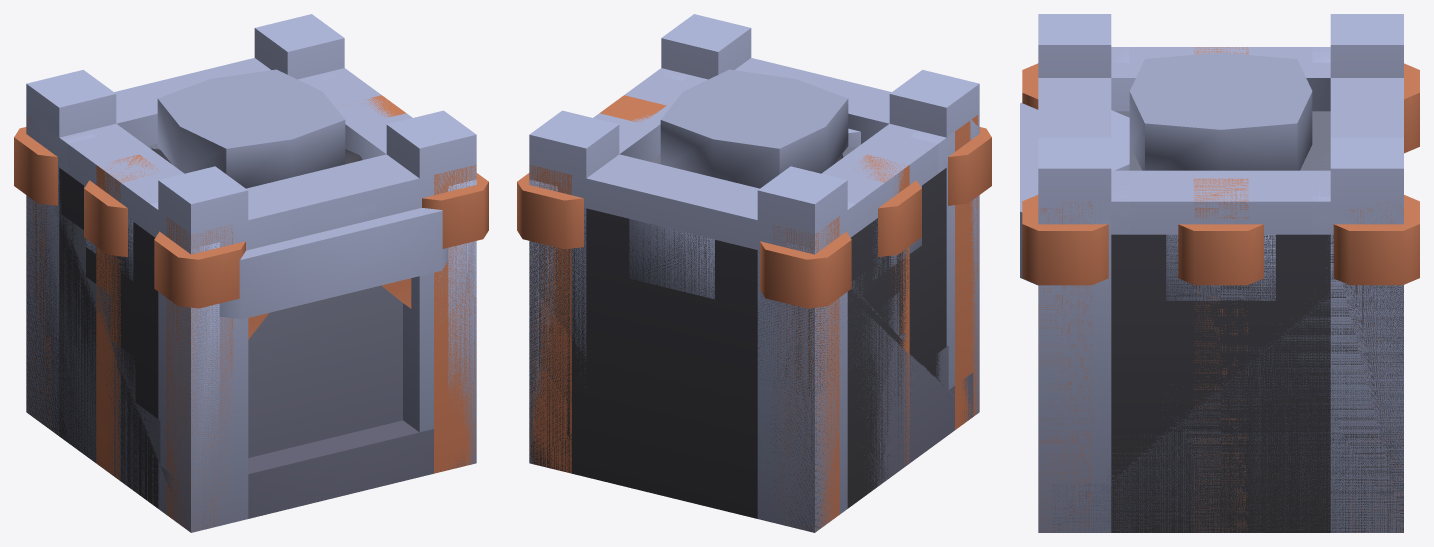
Rendered from arch_dun.glb.
The picture shows the model from 3 angles, left to right: view 1: azimuth 30°, elevation 25°; view 2: azimuth 150°, elevation 25°; view 3: azimuth 270°, elevation 25°; orthographic projection. The views are drawn at different scales.
Parts seen in each view (by area): view 1: wall, wall-opening, wall-half, stairs, wood-structure, column, wood-support; view 2: wall, wall-half, wood-structure, column, wall-opening, stairs, wood-support; view 3: wall, wall-half, column, wall-opening, stairs, wood-structure, wood-support.
Part boxes in pixels (x1=…): wall: x1=26, y1=14, x2=476, y2=532; wall-opening: x1=26, y1=70, x2=475, y2=532; wall-half: x1=26, y1=147, x2=476, y2=532; stairs: x1=26, y1=143, x2=465, y2=528; wood-structure: x1=14, y1=115, x2=488, y2=532; column: x1=157, y1=69, x2=345, y2=188; wood-support: x1=84, y1=95, x2=405, y2=480; wall: x1=529, y1=14, x2=979, y2=532; wall-half: x1=529, y1=71, x2=979, y2=531; wood-structure: x1=517, y1=115, x2=991, y2=530; column: x1=660, y1=69, x2=848, y2=188; wall-opening: x1=529, y1=70, x2=894, y2=531; stairs: x1=815, y1=272, x2=973, y2=528; wood-support: x1=600, y1=95, x2=921, y2=465; wall: x1=1038, y1=14, x2=1403, y2=532; wall-half: x1=1038, y1=47, x2=1403, y2=532; column: x1=1129, y1=52, x2=1312, y2=170; wall-opening: x1=1020, y1=47, x2=1403, y2=532; stairs: x1=1052, y1=138, x2=1403, y2=532; wood-structure: x1=1022, y1=63, x2=1419, y2=532; wood-support: x1=1178, y1=47, x2=1263, y2=532.
Bounding box in the file's own units: 1.09 × 1.1 × 1.09.
Materials: 1 (1 with a texture image).
